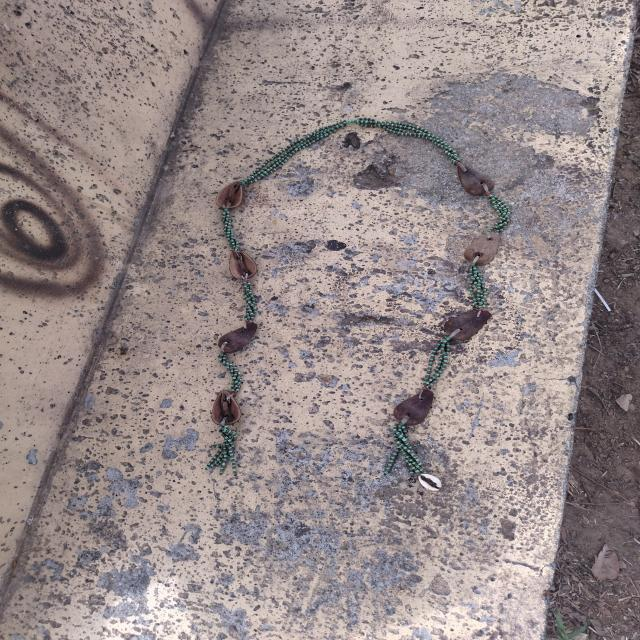facedown: (428, 301, 501, 350), (449, 224, 514, 272), (386, 382, 445, 432), (448, 157, 502, 198), (212, 318, 263, 360)
faceup: (204, 384, 248, 435), (223, 246, 267, 287), (214, 178, 250, 217)
